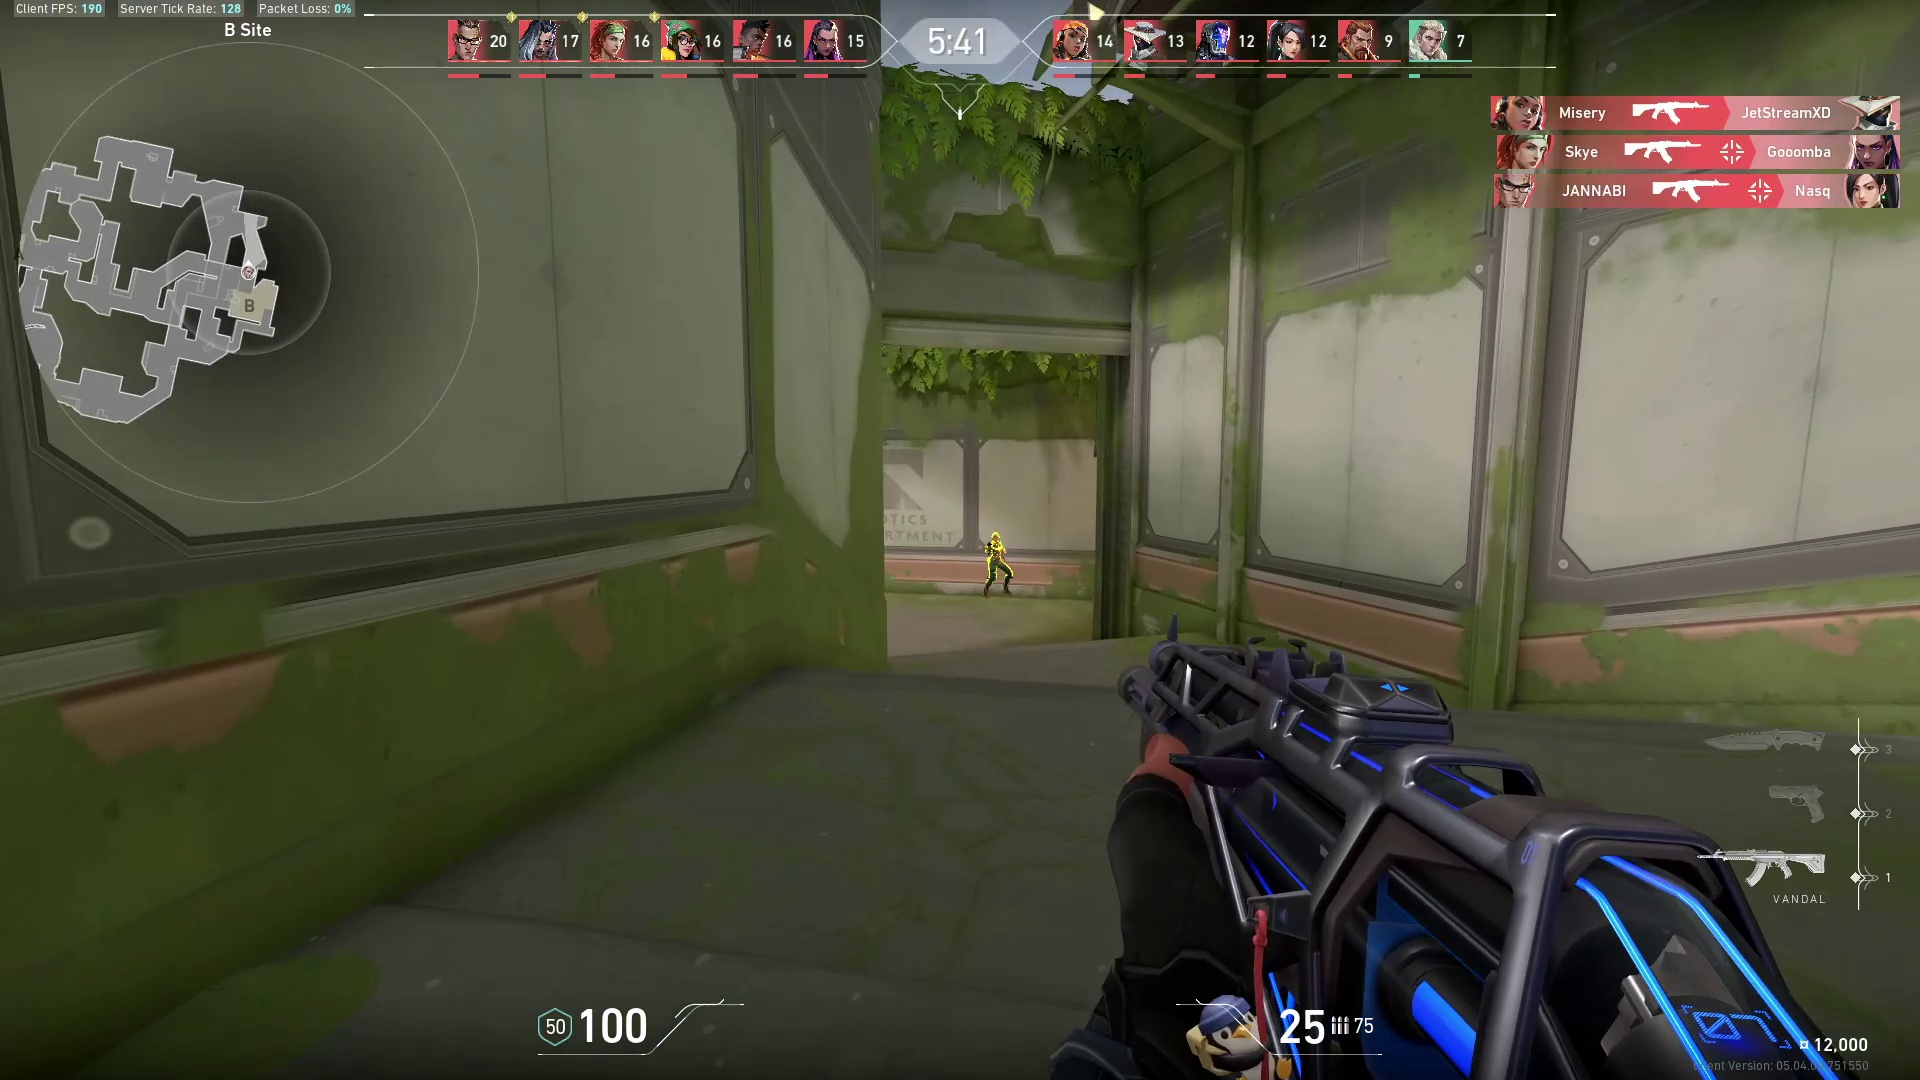enemy_body: (983, 540, 1015, 600)
enemy_head: (990, 530, 1001, 542)
